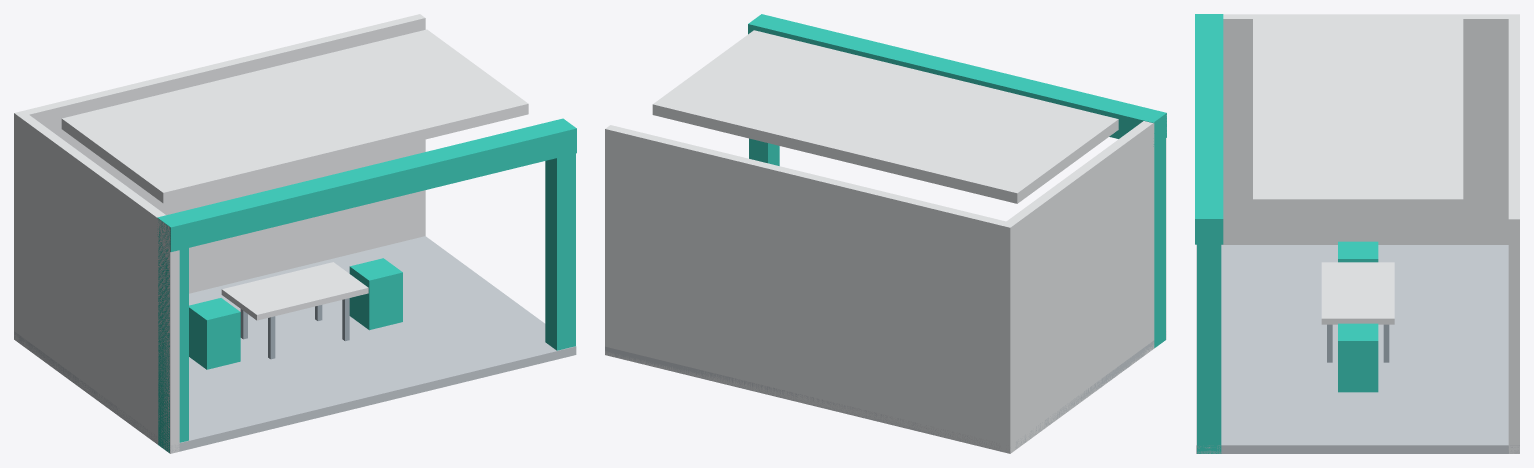
3 views of the same model, side by side, from view 1: azimuth 30°, elevation 25°; view 2: azimuth 150°, elevation 25°; view 3: azimuth 270°, elevation 25° (orthographic). The views are drawn at different scales.
Visible parts, largest first — view 1: Exhibition Booth Concept; view 2: Exhibition Booth Concept; view 3: Exhibition Booth Concept.
Part boxes in pixels (x1,y1,x2,y2): Exhibition Booth Concept: [14, 14, 576, 453]; Exhibition Booth Concept: [605, 14, 1166, 453]; Exhibition Booth Concept: [1195, 14, 1519, 453].
Size of the model in its own units: 6 by 3.34 by 4.02.
